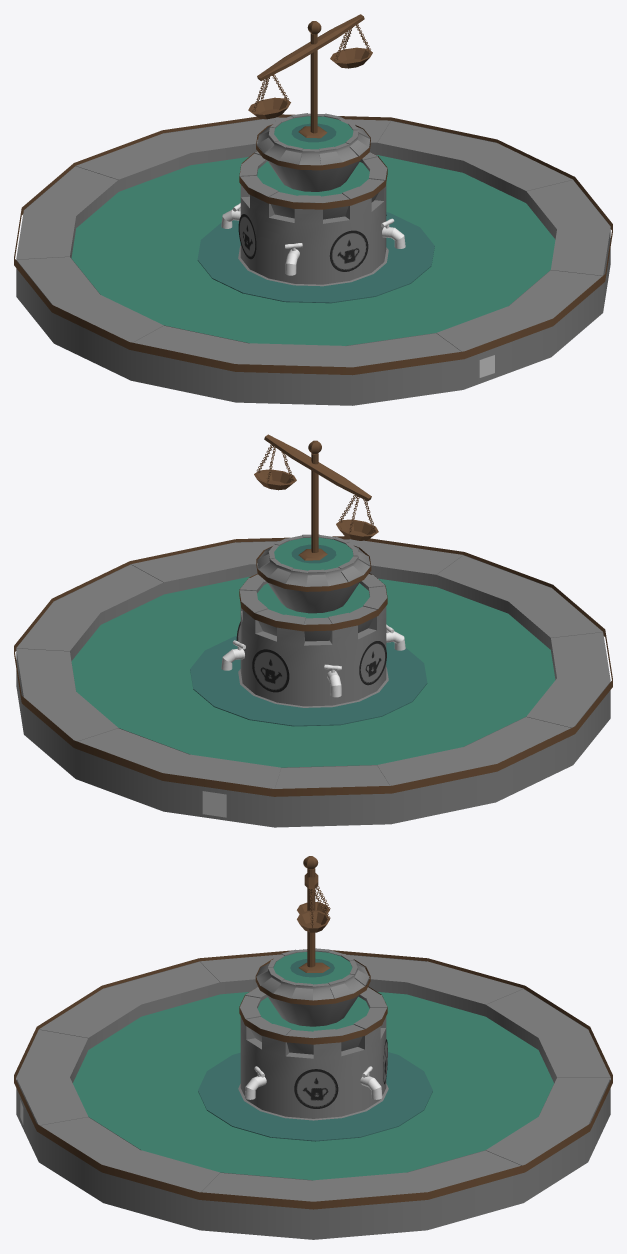
File: 1fuente_justicia_desquilibrada_canillas.fbx
3 renders of one model, top to bottom at view 1: azimuth 30°, elevation 25°; view 2: azimuth 150°, elevation 25°; view 3: azimuth 270°, elevation 25°, orthographic.
Parts seen in each view (by area): view 1: fuente.001, fuente.003, Circle.001, fuente.005, Cylinder.001, fuente.006, fuente.007, Circle.002; view 2: fuente.001, fuente.003, Circle, fuente.005, Cylinder.001, Circle.002, fuente.006, fuente.007, Plane.003; view 3: fuente.001, fuente.003, Circle.003, Cylinder.001, fuente.007.
Boxes of the visible parts, x1=… form: fuente.001: x1=14, y1=21, x2=612, y2=405; fuente.003: x1=71, y1=116, x2=555, y2=345; Circle.001: x1=329, y1=230, x2=368, y2=271; fuente.005: x1=257, y1=14, x2=364, y2=80; Cylinder.001: x1=221, y1=203, x2=405, y2=275; fuente.006: x1=248, y1=75, x2=290, y2=119; fuente.007: x1=330, y1=24, x2=372, y2=68; Circle.002: x1=238, y1=214, x2=256, y2=259; fuente.001: x1=14, y1=440, x2=612, y2=827; fuente.003: x1=71, y1=537, x2=555, y2=767; Circle: x1=252, y1=649, x2=289, y2=692; fuente.005: x1=264, y1=434, x2=371, y2=501; Cylinder.001: x1=221, y1=624, x2=405, y2=697; Circle.002: x1=359, y1=641, x2=386, y2=685; fuente.006: x1=336, y1=495, x2=378, y2=540; fuente.007: x1=254, y1=444, x2=296, y2=490; Plane.003: x1=202, y1=791, x2=226, y2=817; fuente.001: x1=14, y1=856, x2=612, y2=1239; fuente.003: x1=73, y1=951, x2=553, y2=1180; Circle.003: x1=294, y1=1069, x2=338, y2=1108; Cylinder.001: x1=244, y1=1066, x2=382, y2=1099; fuente.007: x1=297, y1=889, x2=330, y2=932.
Size of the model in its own units: 201 by 96.16 by 201.
